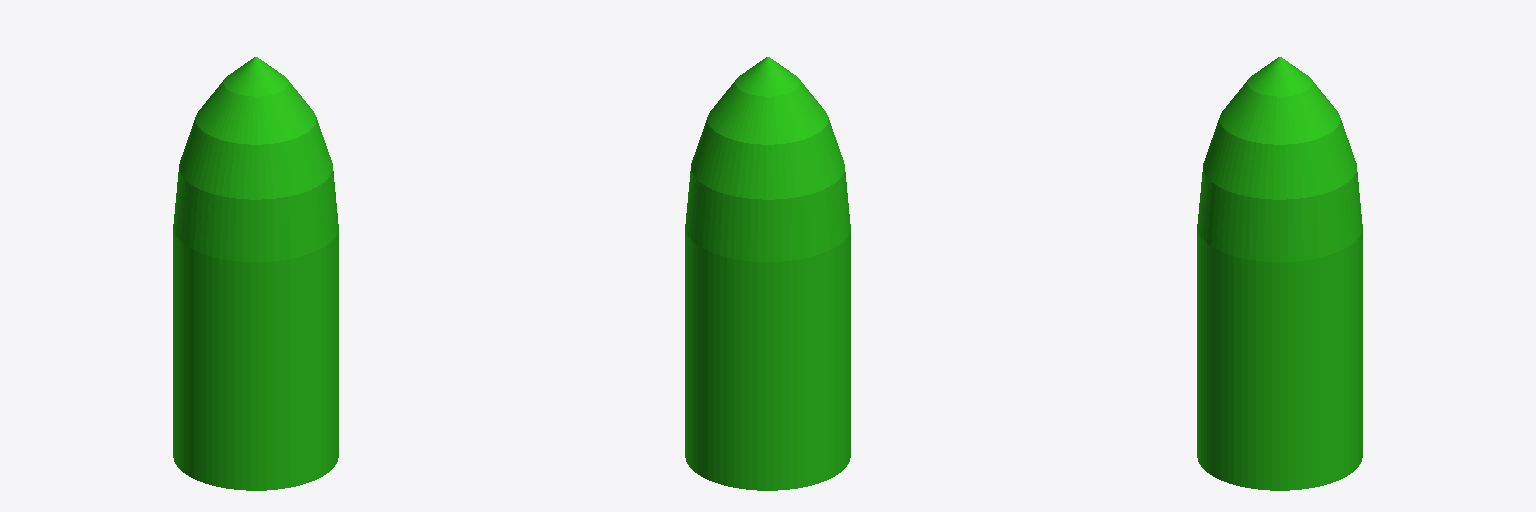
File: dodged_bullet.obj
3 views of the same model, side by side, from view 1: azimuth 30°, elevation 25°; view 2: azimuth 150°, elevation 25°; view 3: azimuth 270°, elevation 25° (orthographic).
Visible parts, largest first — view 1: Cylinder; view 2: Cylinder; view 3: Cylinder.
Part boxes in pixels (left/top/right/bottom): Cylinder: left=173, top=57, right=338, bottom=490; Cylinder: left=685, top=57, right=850, bottom=490; Cylinder: left=1197, top=57, right=1362, bottom=490.
Bounding box in the file's own units: 0.7742 × 2.06 × 0.7742.